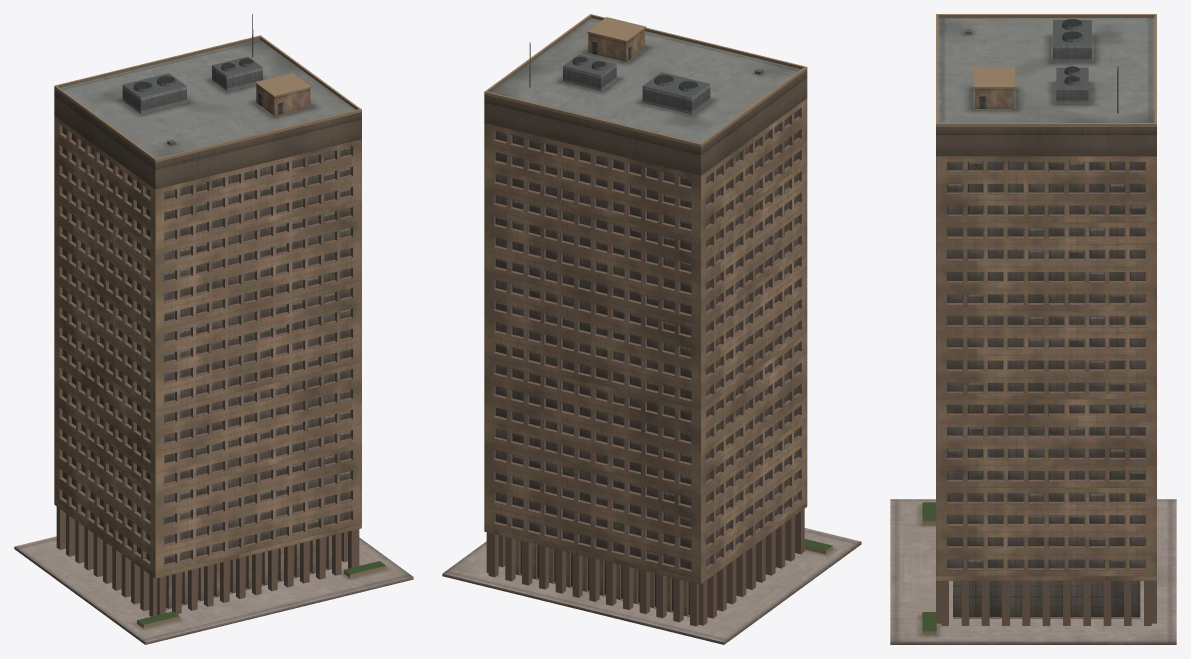
File: seattle_officeslab_b.glb
The picture shows the model from 3 angles, left to right: view 1: azimuth 30°, elevation 25°; view 2: azimuth 150°, elevation 25°; view 3: azimuth 270°, elevation 25°; orthographic projection. The views are drawn at different scales.
Parts seen in each view (by area): view 1: seattle_officeslab_b; view 2: seattle_officeslab_b; view 3: seattle_officeslab_b.
Boxes of the visible parts, left/top/right/bottom form: seattle_officeslab_b: left=14, top=14, right=413, bottom=644; seattle_officeslab_b: left=442, top=14, right=861, bottom=644; seattle_officeslab_b: left=890, top=14, right=1176, bottom=644.
Bounding box in the file's own units: 52 × 93.1 × 44.
1 material, 1 textured.
